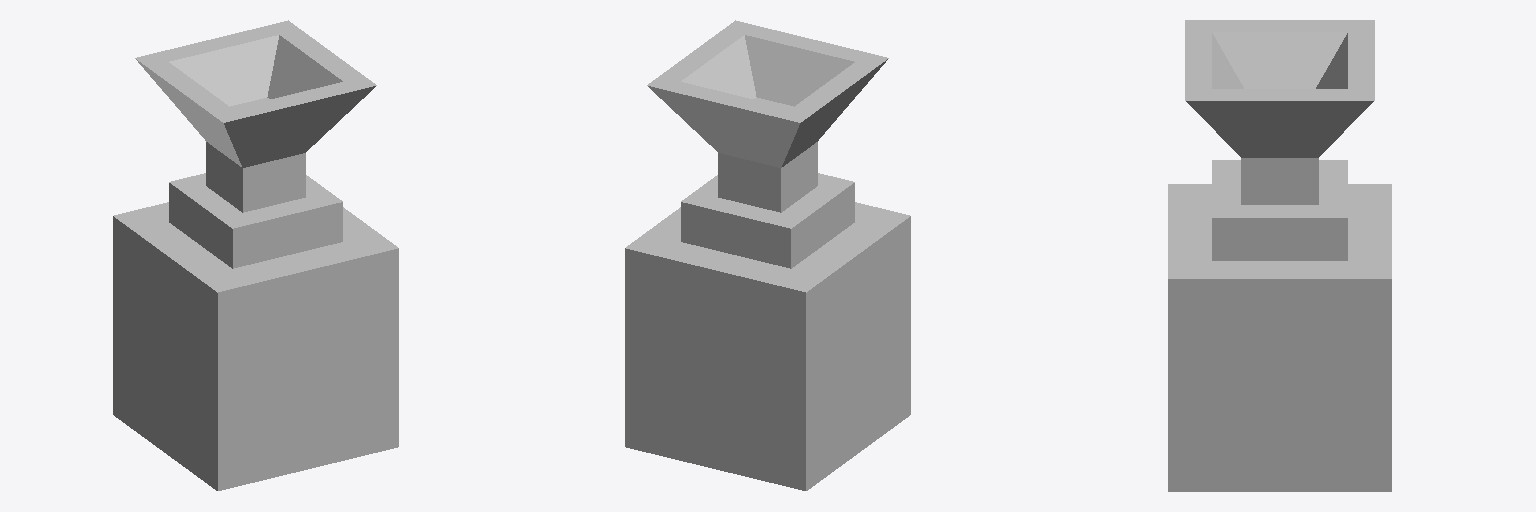
The robot description file, URDF, robot "camera":
<?xml version="0.0" ?>
<robot name="camera">
  <link name="cameraLink">
  <contact>
      <lateral_friction value="1"/>
  </contact>
    <inertial>
      <origin rpy="0 0 0" xyz="0 0 0"/>
       <mass value=".0"/>
       <inertia ixx="0" ixy="0" ixz="0" iyy="0" iyz="0" izz="0"/>
    </inertial>
    <visual>
      <origin rpy="0 0 0" xyz="0 0 0"/>
      <geometry>
				<mesh filename="cam.obj" scale="1.3 1.3 1.3"/>
      </geometry>
       <material name="gray">
        <color rgba="0.8 0.8 0.8 1"/>
      </material>
    </visual>
  </link>
</robot>

--- Render facts (derived) ---
The picture shows the robot from 3 angles, left to right: view 1: azimuth 30°, elevation 25°; view 2: azimuth 150°, elevation 25°; view 3: azimuth 270°, elevation 25°; orthographic projection.
Robot: camera — 1 links, 0 joints (none); root link cameraLink; default pose: all joints at 0.
Links seen in each view (by area): view 1: cameraLink; view 2: cameraLink; view 3: cameraLink.
Boxes of the visible links, x1,y1,x2,y2 form: cameraLink: [113, 20, 398, 490]; cameraLink: [625, 20, 910, 490]; cameraLink: [1168, 20, 1391, 491].
Bounding box of the posed robot: 0.03 × 0.03 × 0.0567 m (x, y, z).
Meshes: 1 distinct files referenced, 1 mesh visuals loaded (1 OBJ).